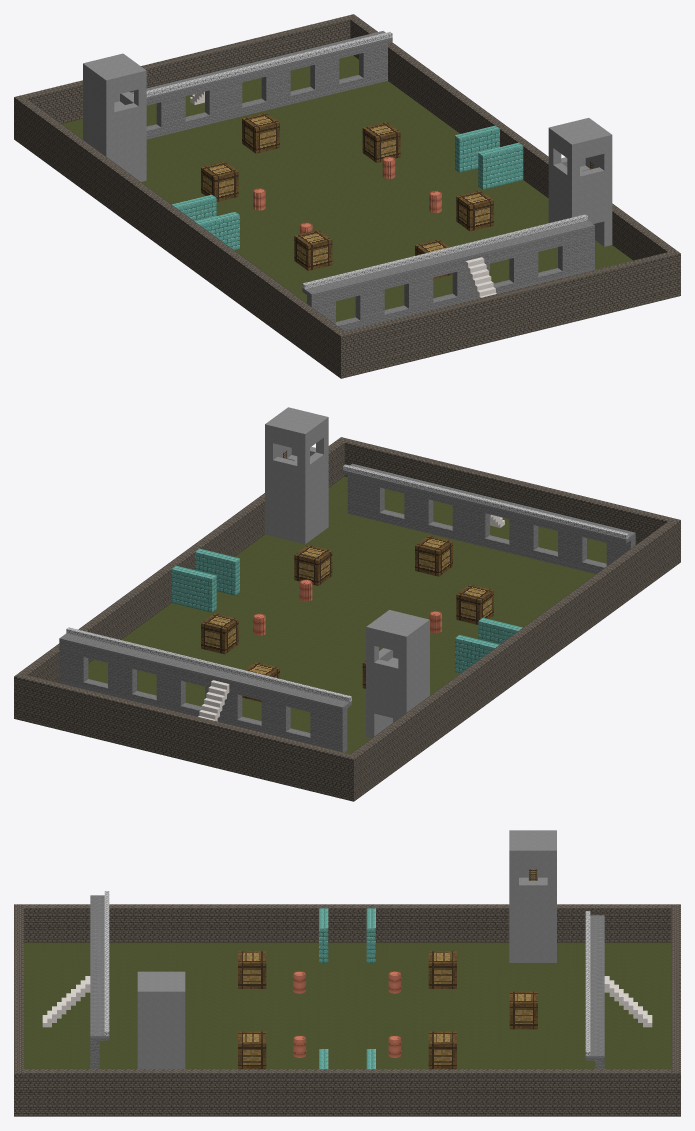
File: map1.glb
The picture shows the model from 3 angles, top to bottom: view 1: azimuth 30°, elevation 25°; view 2: azimuth 150°, elevation 25°; view 3: azimuth 270°, elevation 25°; orthographic projection.
Parts seen in each view (by area): view 1: Bricks, Floor, Wall, Building, Stair, Box, WallVillager, Barrel, StairWhite; view 2: Bricks, Floor, Wall, Building, Stair, Box, WallVillager, StairWhite, Barrel; view 3: Floor, Bricks, Building, Stair, Box, StairWhite, WallVillager, Barrel.
Part boxes in pixels (x1,y1,x2,y2): Bricks: [14, 14, 680, 378]; Floor: [62, 55, 632, 321]; Wall: [146, 43, 594, 330]; Building: [83, 53, 612, 246]; Stair: [130, 31, 594, 298]; Box: [201, 112, 493, 279]; WallVillager: [172, 125, 523, 250]; Barrel: [253, 156, 441, 234]; StairWhite: [190, 91, 496, 298]; Bricks: [14, 437, 680, 801]; Floor: [88, 476, 606, 753]; Wall: [59, 476, 635, 752]; Building: [265, 407, 429, 738]; Stair: [59, 463, 635, 711]; Box: [201, 535, 493, 701]; WallVillager: [171, 548, 522, 673]; StairWhite: [198, 514, 504, 721]; Barrel: [253, 579, 442, 648]; Floor: [23, 942, 671, 1069]; Bricks: [14, 904, 680, 1116]; Building: [137, 830, 556, 1069]; Stair: [90, 891, 604, 1060]; Box: [238, 951, 537, 1069]; StairWhite: [42, 976, 652, 1027]; WallVillager: [319, 908, 375, 1069]; Barrel: [293, 971, 401, 1057].
Bounding box in the file's own units: 84 × 28 × 140.
19 materials, 16 textured.
